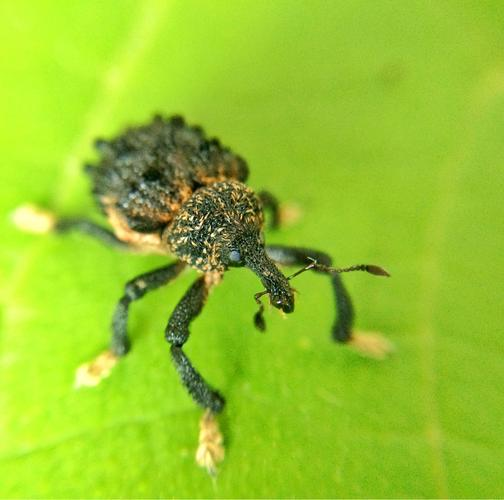Curculionidae: (12, 110, 394, 482)
